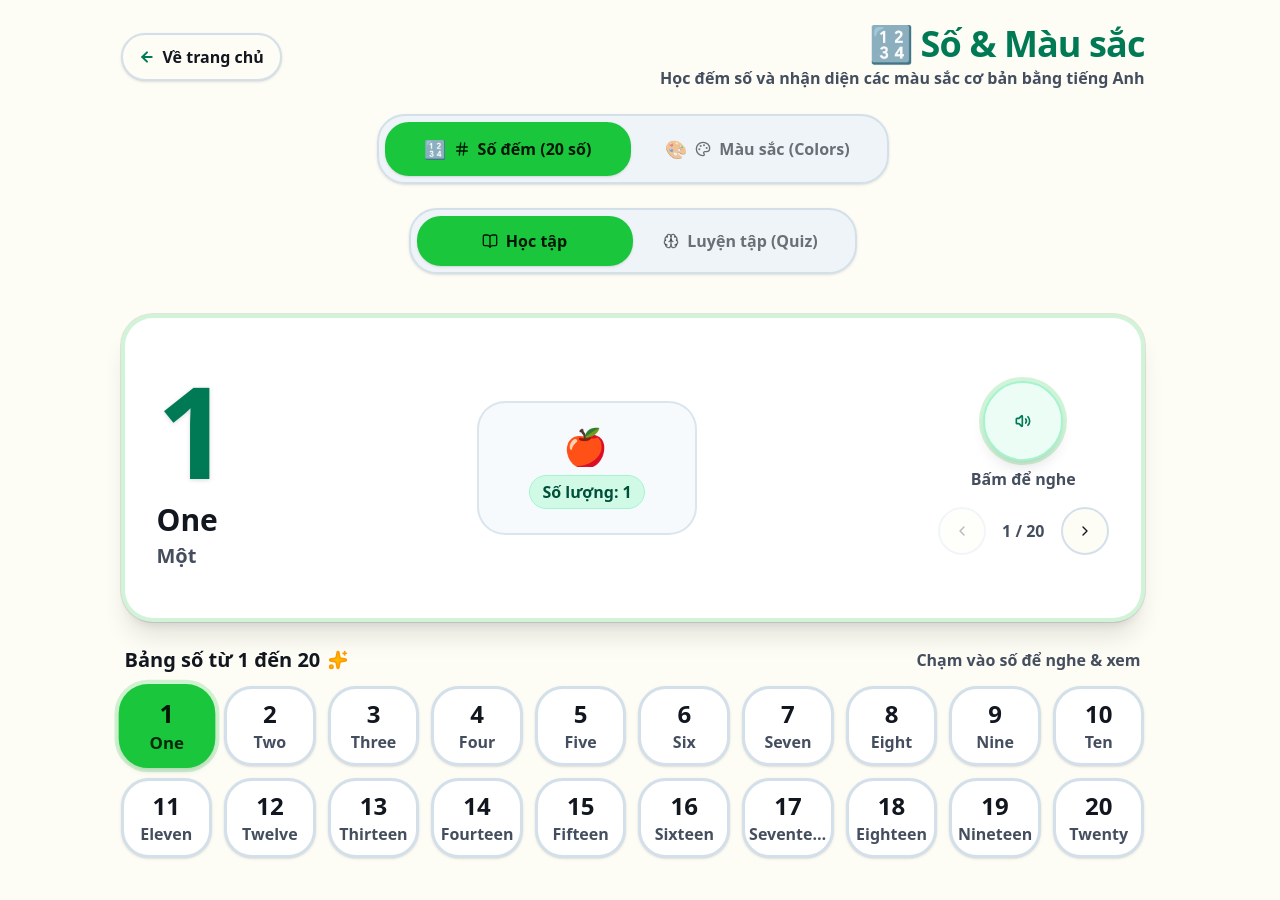
Test case: Numbers & Colors Game Page (app/games/numbers-colors/page.tsx) › navigates colors sequentially via Next and Prev buttons, disables appropriately at boundaries
The image size is (1280, 900).
Click the tab "🎨 Màu sắc (Colors)". click: {"x": 758, "y": 149}
box: [634, 122, 880, 176]
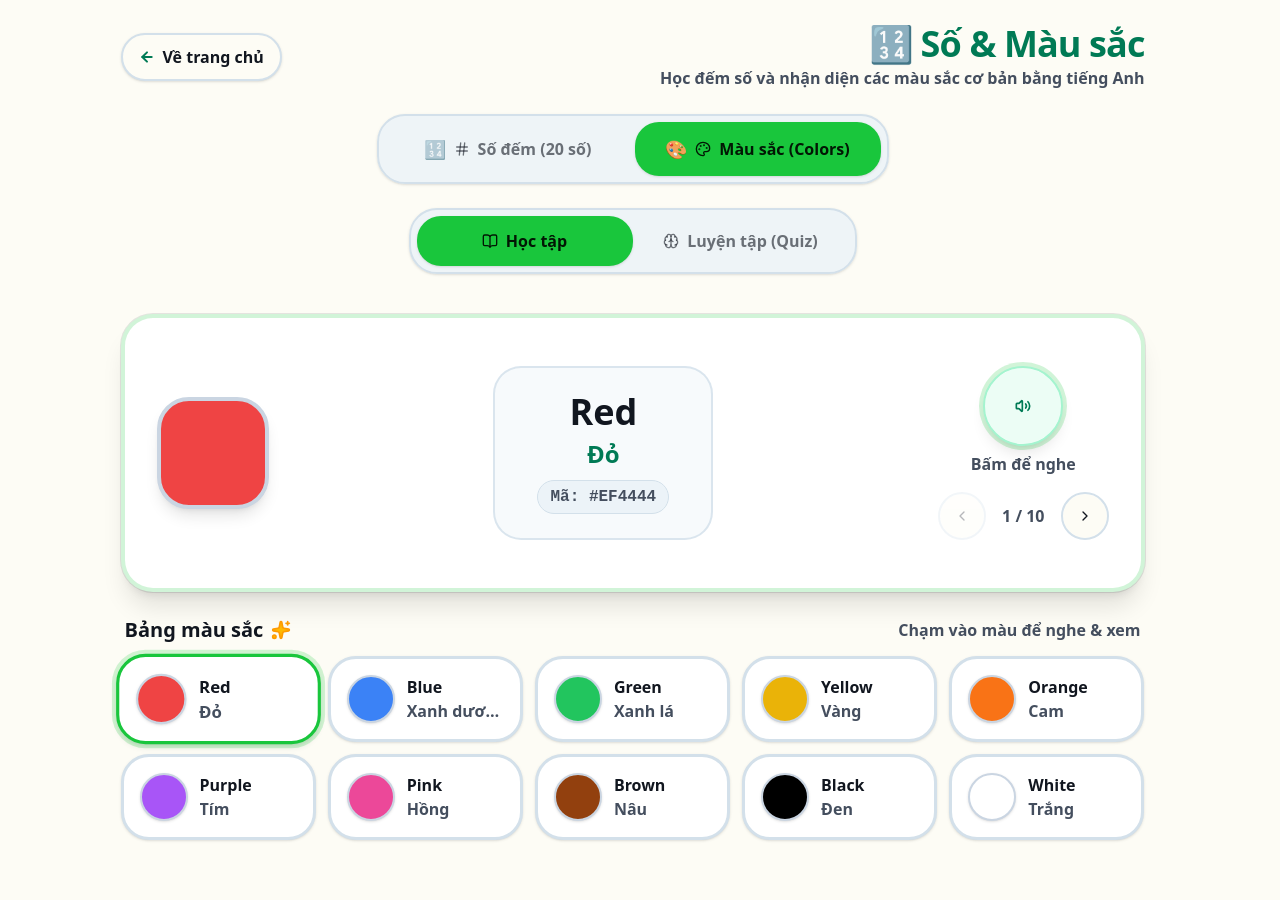
Expected: the button named "Màu trước" is disabled, [938, 492, 986, 540]
Note: Click next color
Click the button named "Màu tiếp theo". click: {"x": 1084, "y": 516}
box: [1060, 492, 1108, 540]
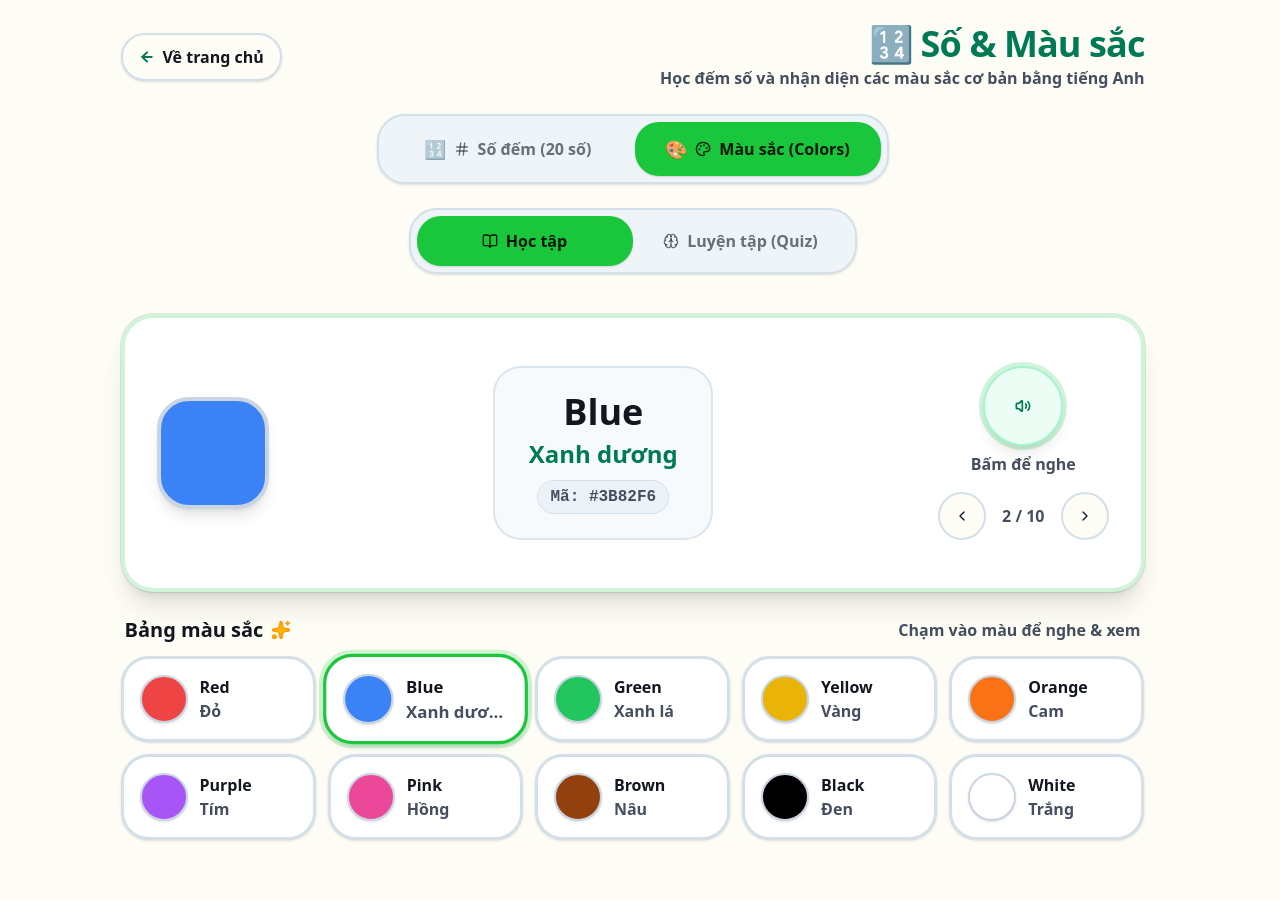
Now the button named "Màu trước" is enabled, box [938, 492, 986, 540]
Click the button with aria-label "Màu White". click: {"x": 1047, "y": 797}
box: [949, 754, 1144, 840]
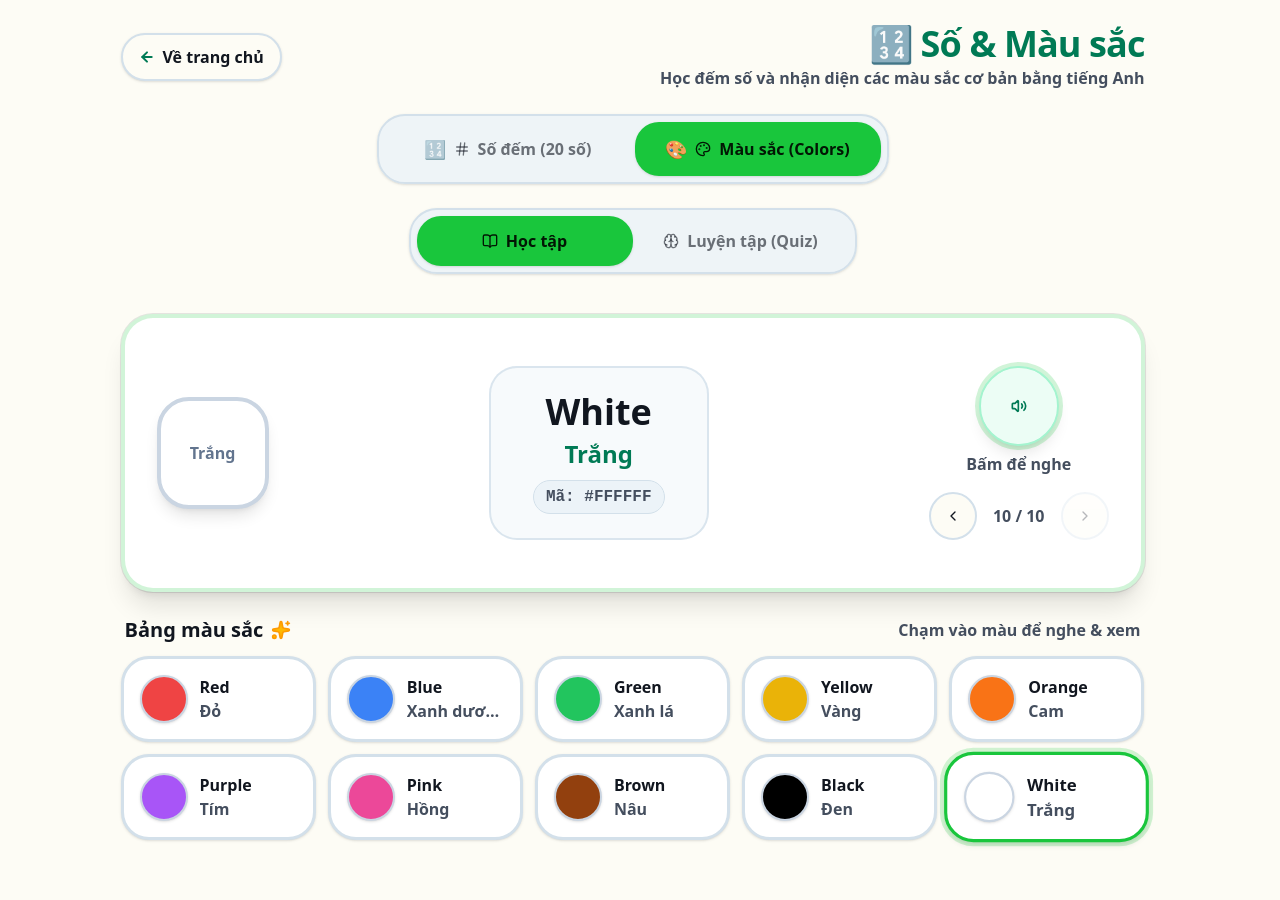
Now the button named "Màu trước" is enabled, box [929, 492, 977, 540]
Now the button named "Màu tiếp theo" is disabled, box [1060, 492, 1108, 540]
